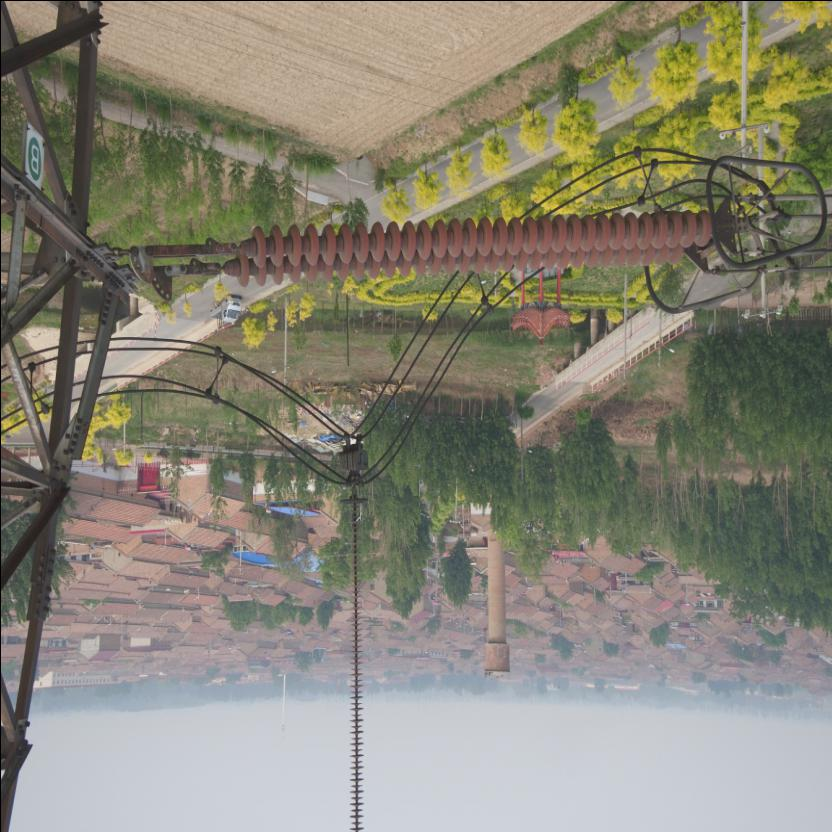insulator: (184, 206, 720, 290)
